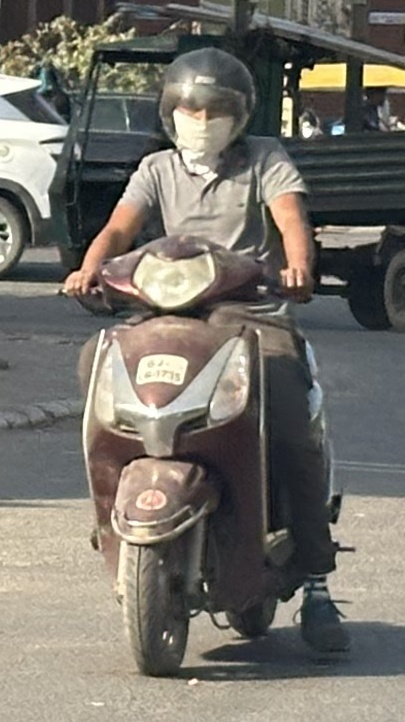BikeWithRider: (50, 39, 363, 681)
Helmet: (148, 42, 264, 165)
